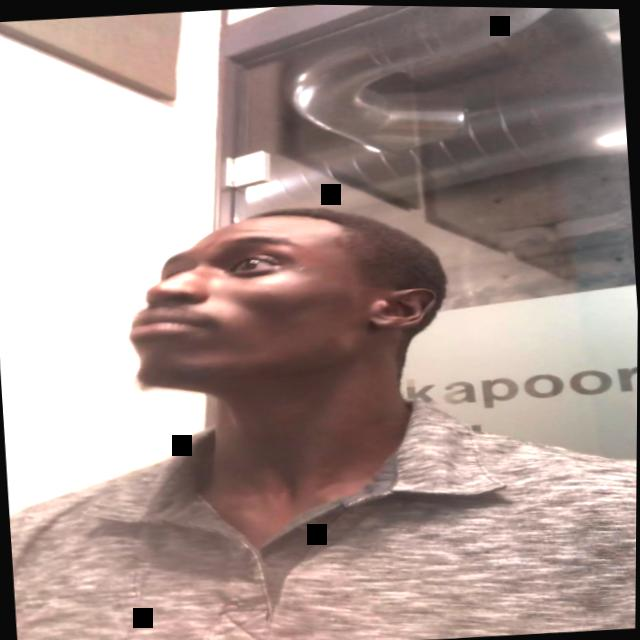NO-Mask: (120, 212, 400, 398)
